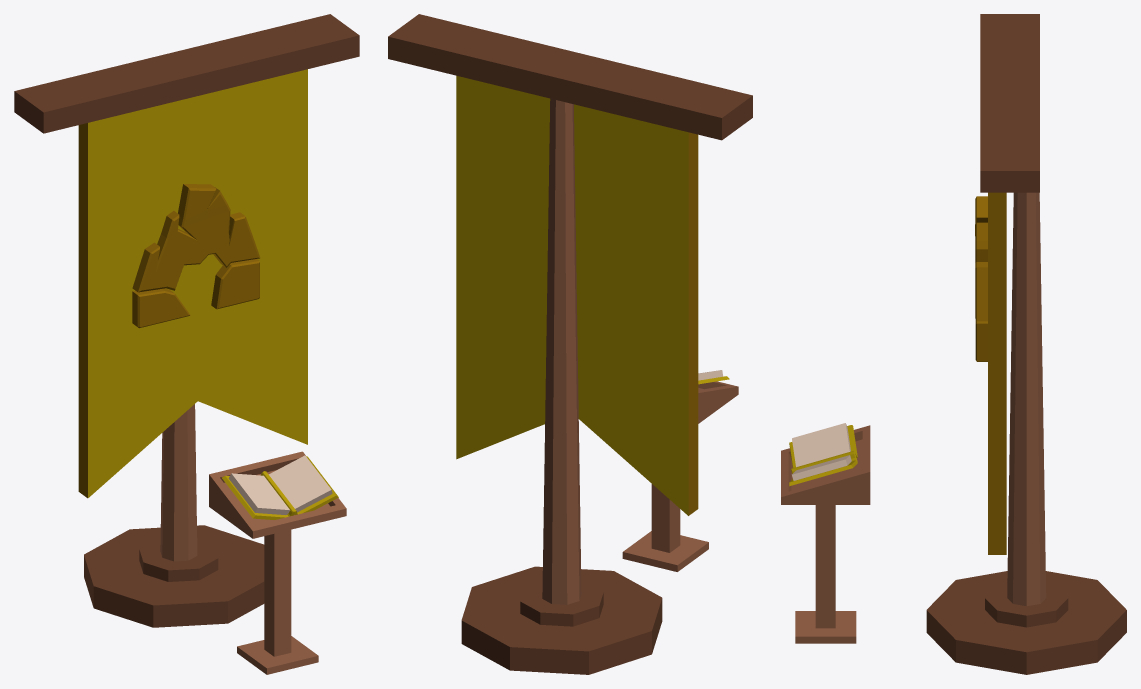
File: EstandardeAmarelo.fbx
3 renders of one model, left to right at view 1: azimuth 30°, elevation 25°; view 2: azimuth 150°, elevation 25°; view 3: azimuth 270°, elevation 25°, orthographic. The views are drawn at different scales.
Parts seen in each view (by area): view 1: EstandardeAmarelo; view 2: EstandardeAmarelo; view 3: EstandardeAmarelo.
Part boxes in pixels (box(x1,y1,x2,y2)): EstandardeAmarelo: box(14, 14, 359, 674); EstandardeAmarelo: box(388, 14, 752, 674); EstandardeAmarelo: box(781, 14, 1126, 674).
Size of the model in its own units: 223 by 357 by 207.
